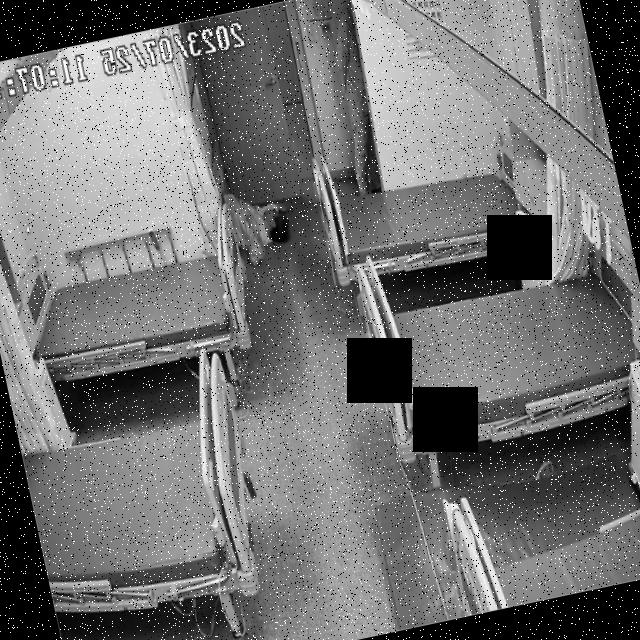bed: (8, 345, 274, 630), (361, 254, 640, 458), (8, 228, 262, 394), (319, 150, 524, 286)
fall: (220, 180, 294, 277)
patient: (312, 0, 387, 195), (219, 177, 297, 280)
